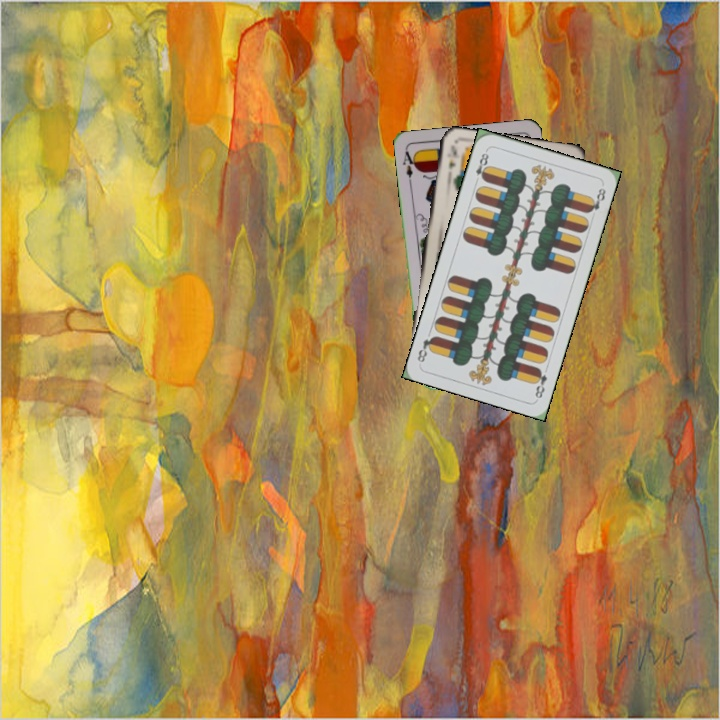E8: (471, 146, 491, 185), (530, 364, 550, 401)
EA: (398, 146, 419, 186)
EK: (445, 141, 459, 172)
